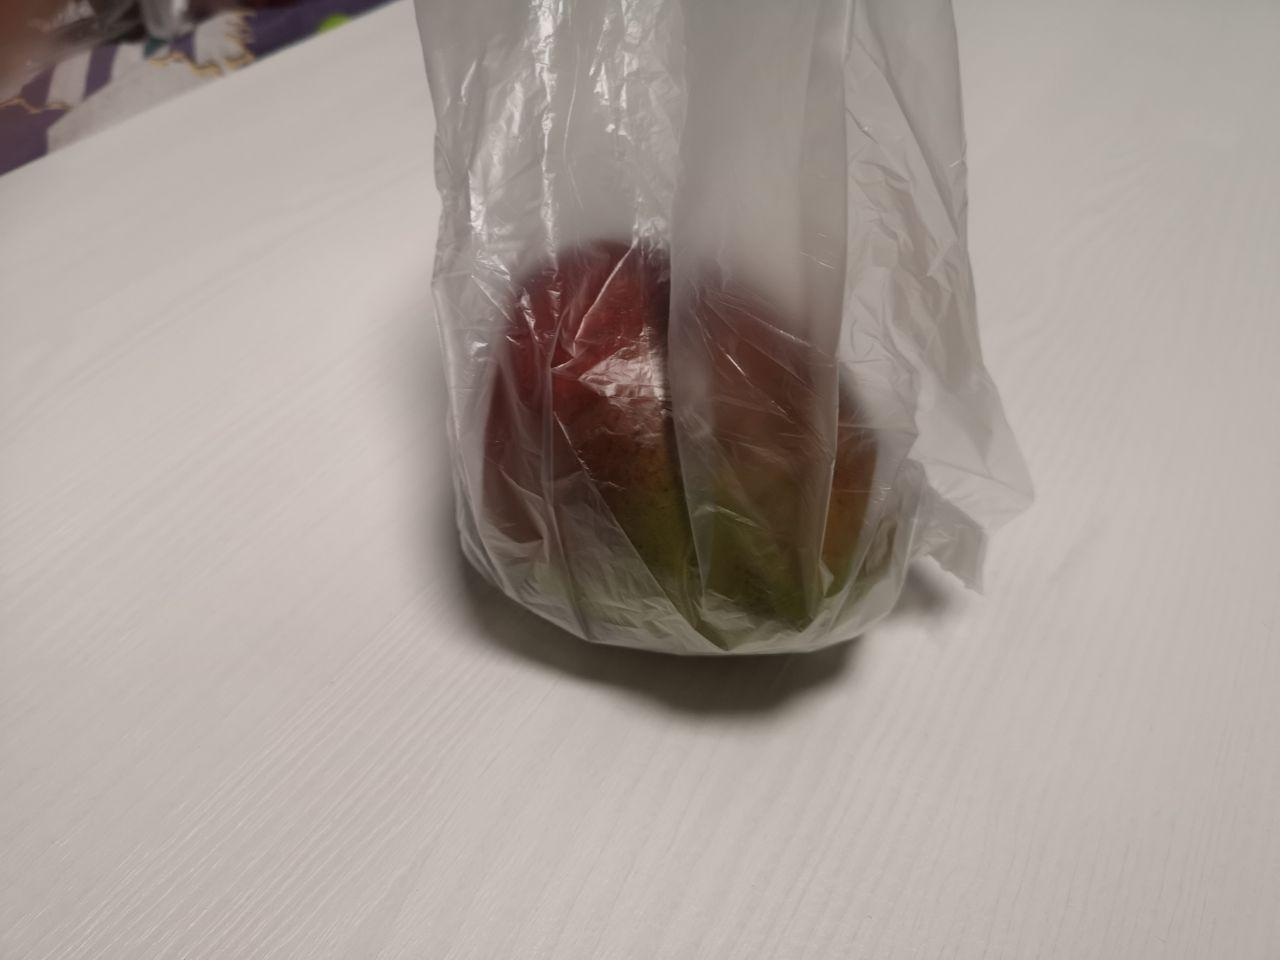mango: (336, 147, 1063, 781)
